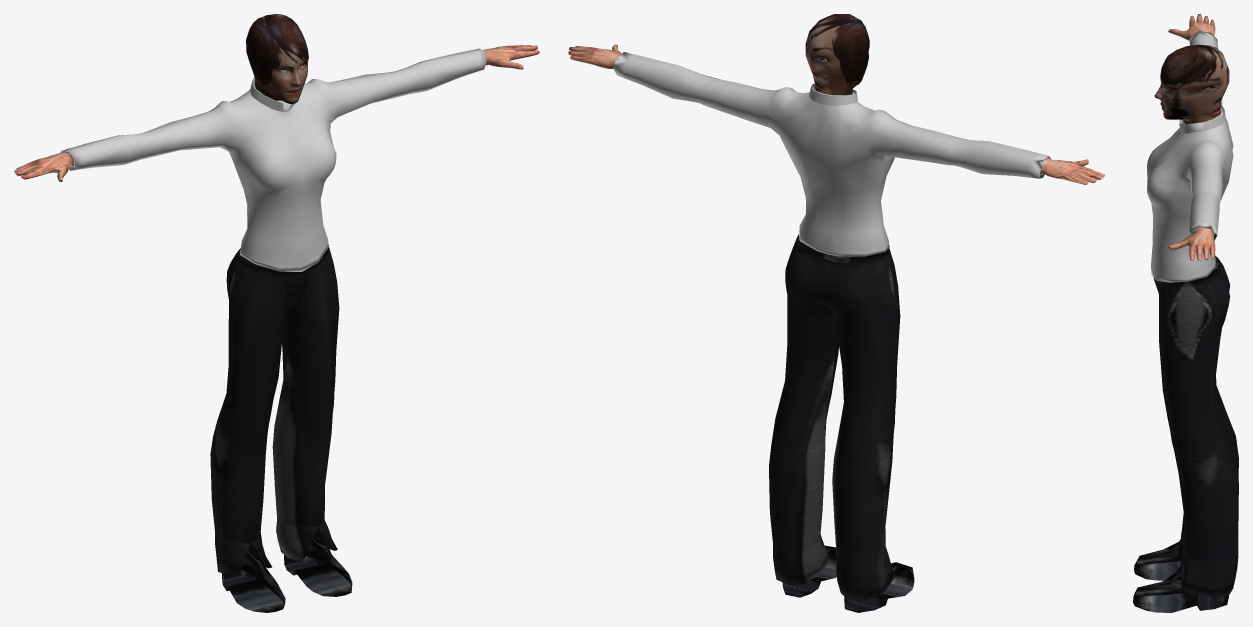
File: MonitorCaptainModel3.fbx
3 renders of one model, left to right at view 1: azimuth 30°, elevation 25°; view 2: azimuth 150°, elevation 25°; view 3: azimuth 270°, elevation 25°, orthographic. The views are drawn at different scales.
Parts seen in each view (by area): view 1: CaptainModel; view 2: CaptainModel; view 3: CaptainModel.
Part boxes in pixels (bbox=[...]): CaptainModel: bbox=[14, 14, 539, 612]; CaptainModel: bbox=[568, 14, 1104, 612]; CaptainModel: bbox=[1133, 14, 1238, 612].
Size of the model in its own units: 407 by 420 by 74.49.
